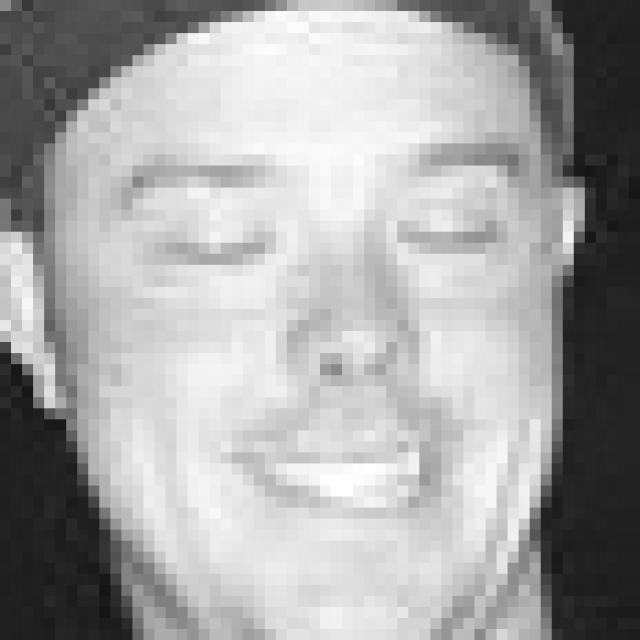real: (28, 31, 582, 619), (127, 148, 519, 284)
